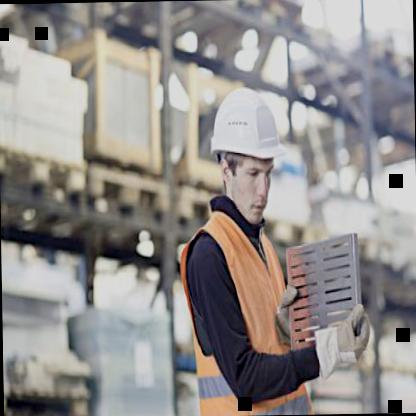helmet: (201, 73, 289, 227)
